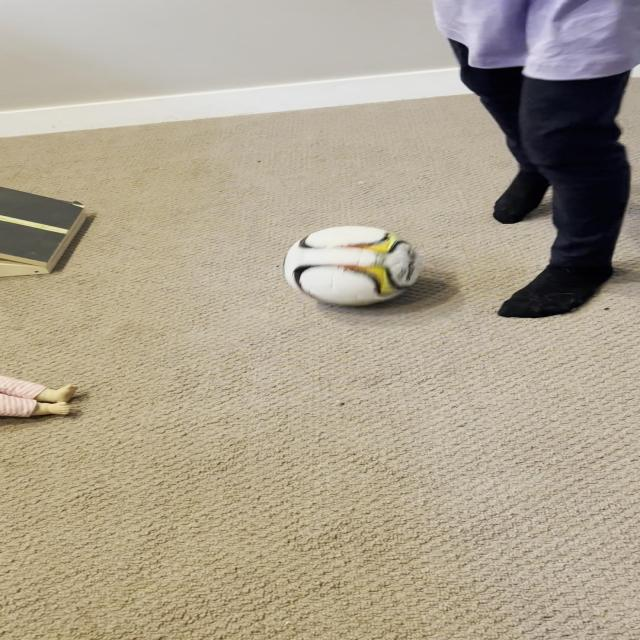Soccer Ball: (282, 226, 420, 307)
